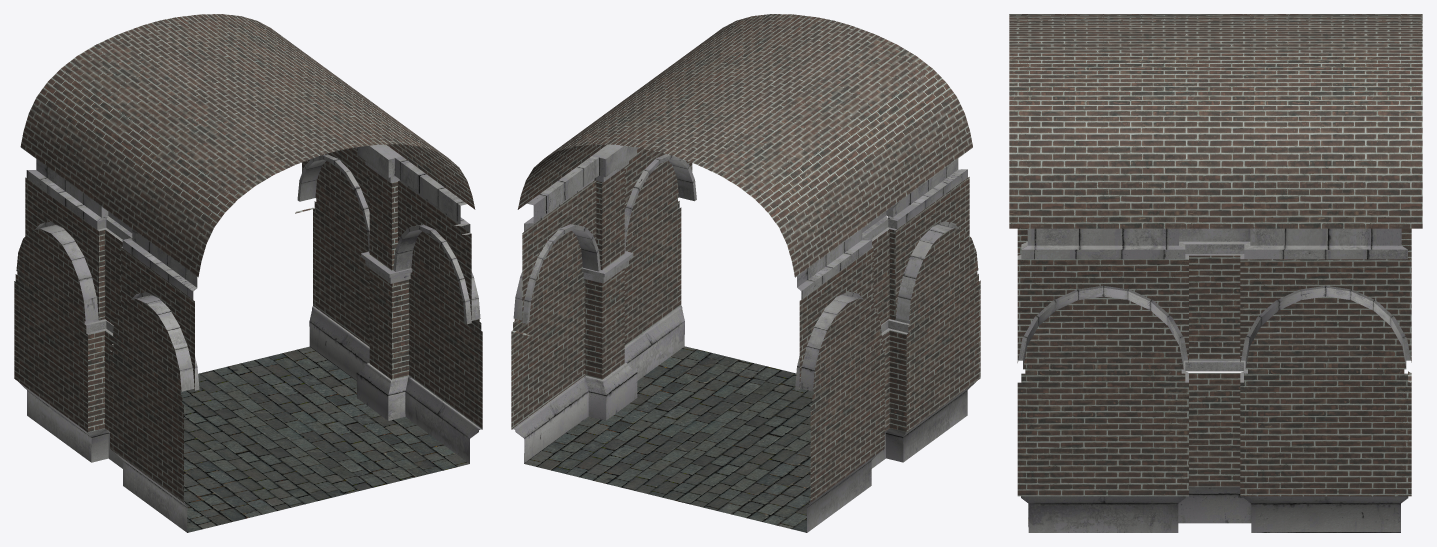
The model's file is PASILLOP1 1.fbx.
3 renders of one model, left to right at view 1: azimuth 30°, elevation 25°; view 2: azimuth 150°, elevation 25°; view 3: azimuth 270°, elevation 25°, orthographic. The views are drawn at different scales.
Visible parts, largest first — view 1: ARCO BUENO007; view 2: ARCO BUENO007; view 3: ARCO BUENO007.
Boxes of the visible parts, x1,y1,x2,y2 form: ARCO BUENO007: (14,14,482,532); ARCO BUENO007: (511,14,980,532); ARCO BUENO007: (1009,14,1422,532).
Bounding box in the file's own units: 540 × 610 × 556.
